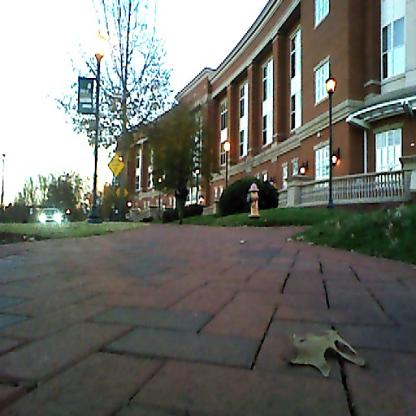Edge: (235, 210, 416, 282), (0, 223, 176, 260)
Sidewalk: (3, 229, 416, 416)
